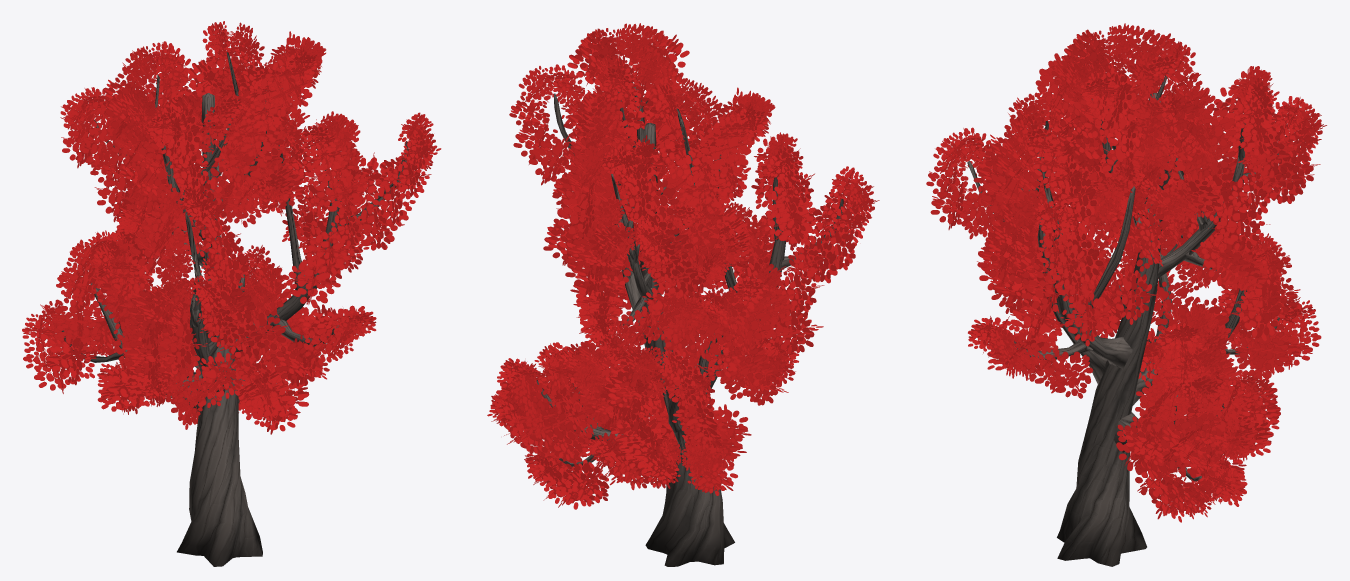
File: TwistedTree_3.glb
3 renders of one model, left to right at view 1: azimuth 30°, elevation 25°; view 2: azimuth 150°, elevation 25°; view 3: azimuth 270°, elevation 25°, orthographic. The views are drawn at different scales.
Bounding box in the file's own units: 11.36 × 16.07 × 11.51.
2 materials, 2 textured.
